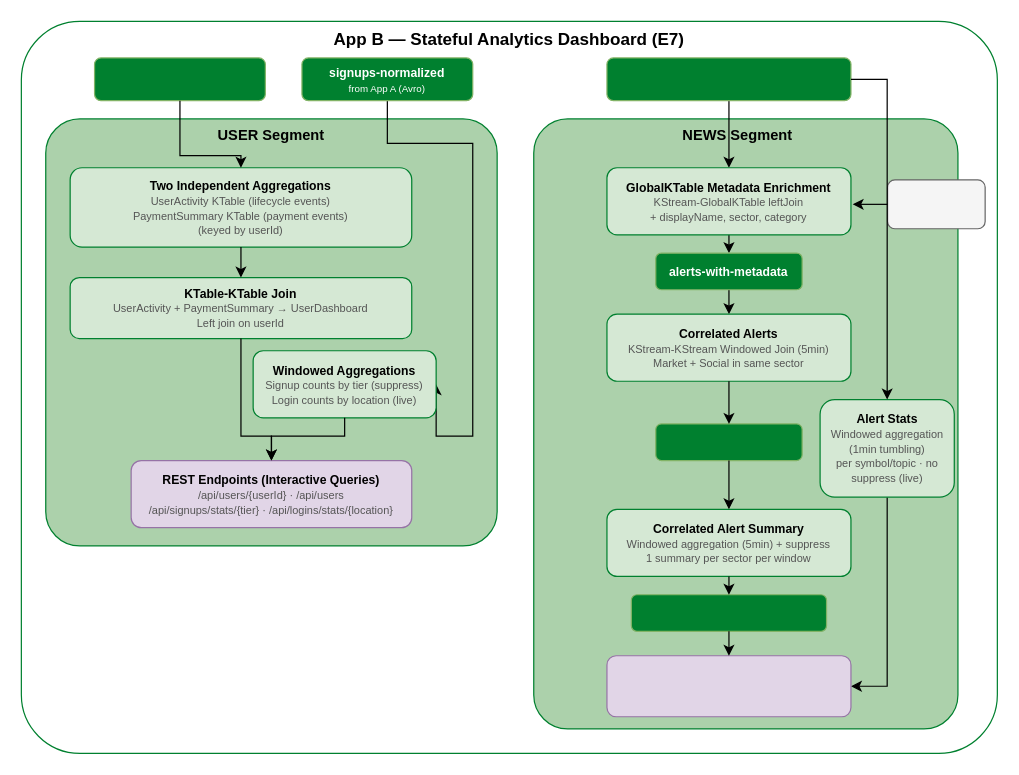
The diagram is 1019 pixels wide and 775 high, and some of its shapes have lost their labels. Here are the shapes that lost their labels. From the top down, the centre of each, then its label:
At point (179, 79): "worldpulse user lifecycle + payment events".
At point (728, 79): "alerts-enriched from App A (Avro EnrichedAlert)".
At point (935, 204): "symbol-metadata GlobalKTable (compacted)".
At point (728, 442): "correlated-alerts".
At point (728, 612): "correlated-alerts-summary".
At point (728, 686): "REST /api/alerts/stats/{symbol} /api/correlated-alerts/summary".
